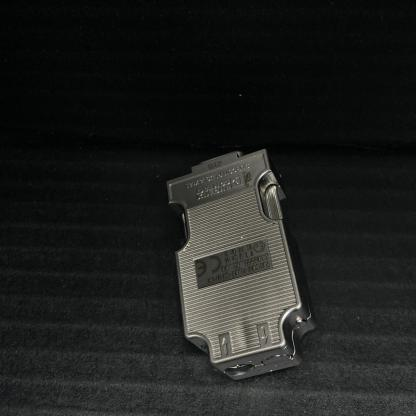SP0000010: (92, 114, 344, 406)
